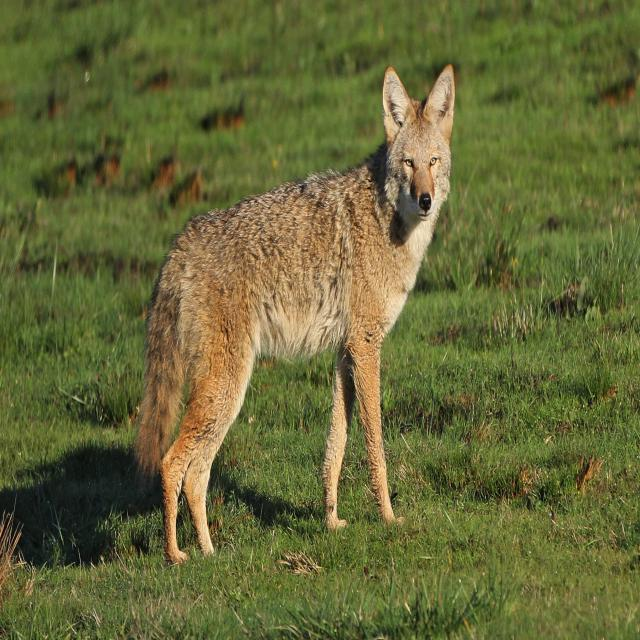Coyote: (127, 59, 470, 573)
